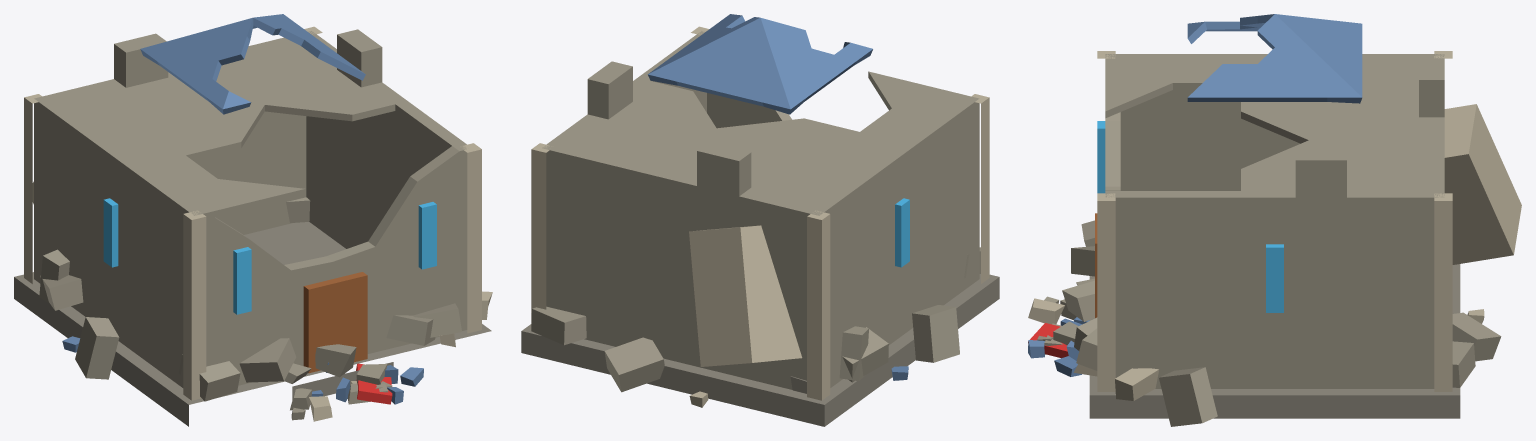
File: house_t3_v2_dmg1.glb
3 renders of one model, left to right at view 1: azimuth 30°, elevation 25°; view 2: azimuth 150°, elevation 25°; view 3: azimuth 270°, elevation 25°, orthographic. The views are drawn at different scales.
Parts seen in each view (by area): view 1: house_t3_v2_dmg1; view 2: house_t3_v2_dmg1; view 3: house_t3_v2_dmg1.
Boxes of the visible parts, x1=… form: house_t3_v2_dmg1: x1=14, y1=14, x2=492, y2=426; house_t3_v2_dmg1: x1=521, y1=14, x2=999, y2=426; house_t3_v2_dmg1: x1=1028, y1=14, x2=1521, y2=426.
Size of the model in its own units: 0.8854 by 0.7 by 0.96.
Materials: 1 (1 with a texture image).
